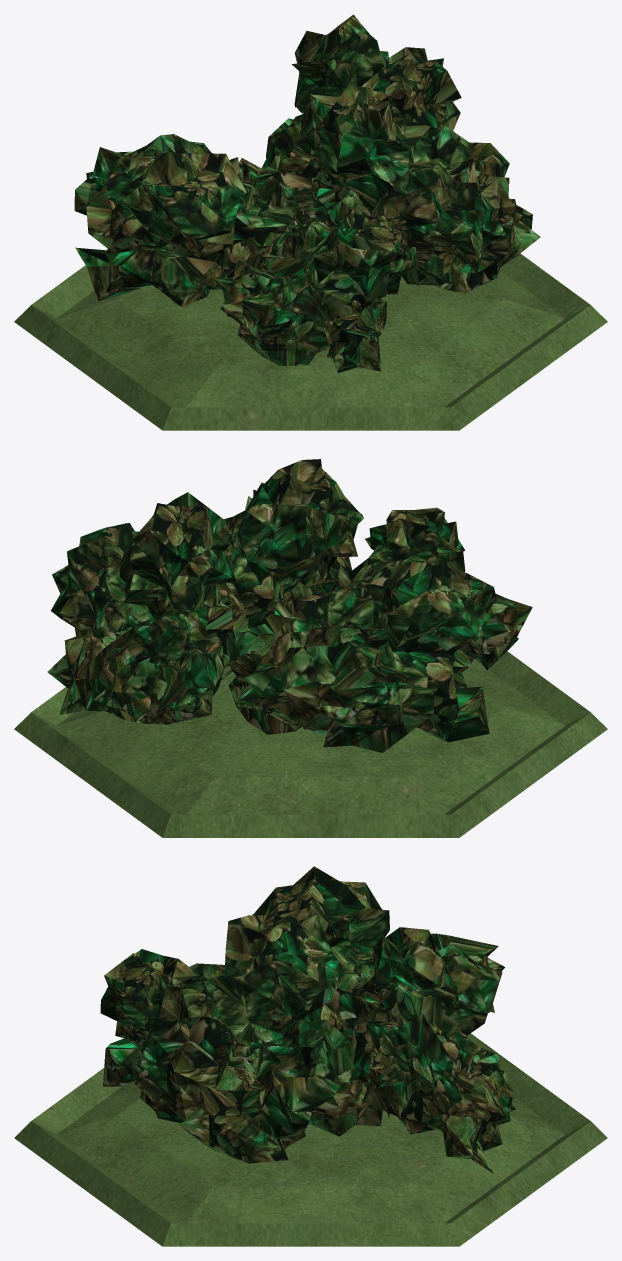
The model's file is bramble.glb.
3 renders of one model, top to bottom at view 1: azimuth 30°, elevation 25°; view 2: azimuth 150°, elevation 25°; view 3: azimuth 270°, elevation 25°, orthographic.
Visible parts, largest first — view 1: Mball.003, HexagonTile.005; view 2: Mball.003, HexagonTile.005; view 3: Mball.003, HexagonTile.005.
Part boxes in pixels (x1,y1,x2,y2): Mball.003: (74, 14, 540, 372); HexagonTile.005: (14, 249, 607, 430); Mball.003: (47, 459, 532, 752); HexagonTile.005: (14, 651, 607, 837); Mball.003: (100, 866, 515, 1173); HexagonTile.005: (14, 1033, 607, 1246).
Size of the model in its own units: 1.73 by 0.9025 by 2.
Materials: 2 (2 with a texture image).
